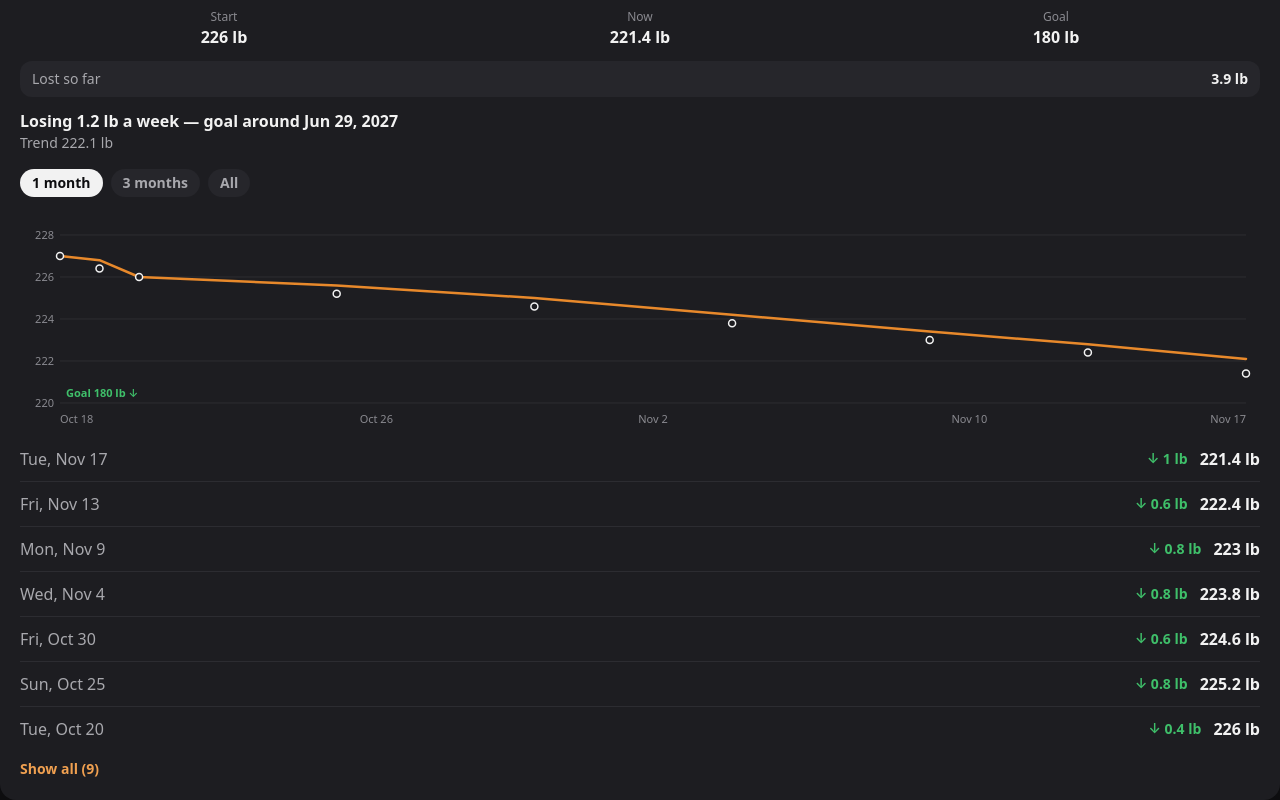
Test: WeightSection (Goals) › lists the latest 7 weigh-ins, with Show all for the rest
This screenshot has width=1280, height=800.
(page scrolled)
Click the button "Show all (9)" at {"x": 60, "y": 769}, box [20,759,99,779]
(page scrolled)
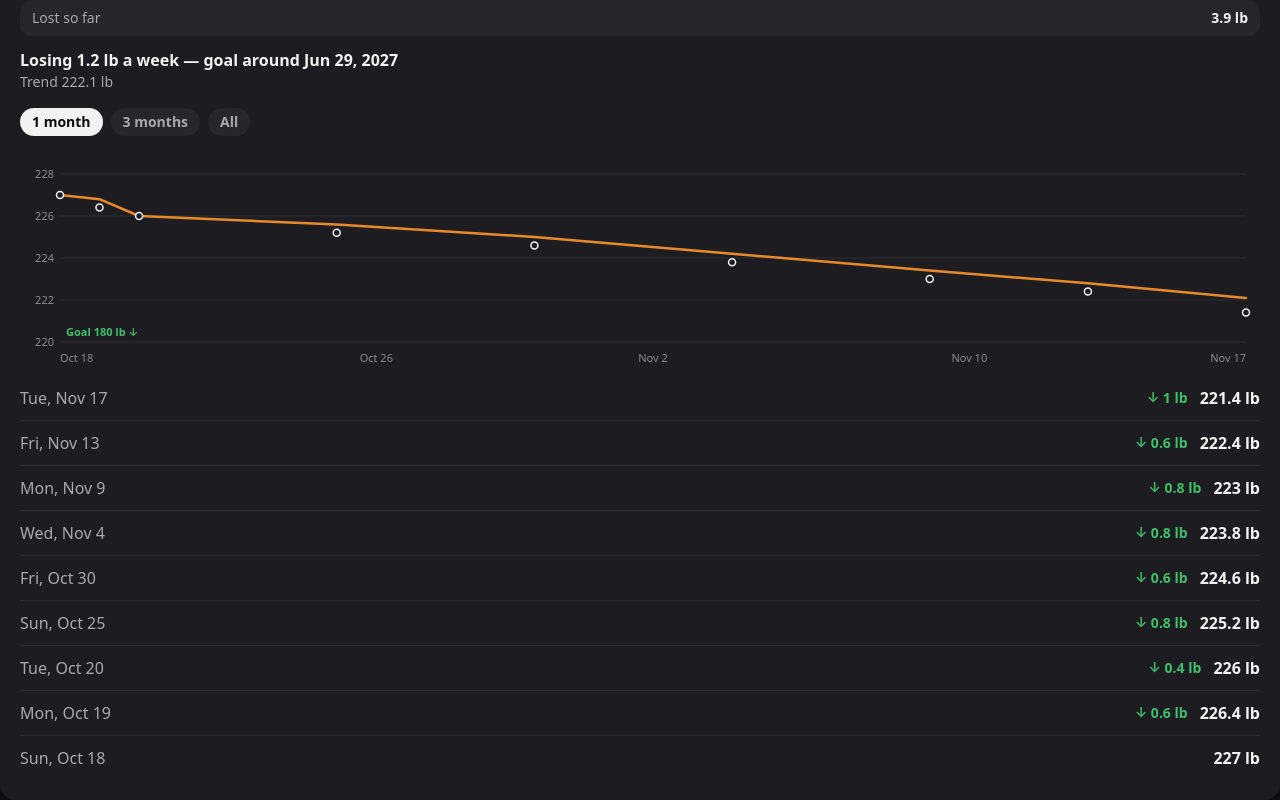
Check: the button with aria-label "Edit Sun, Oct 18, 227 lb" is shown, box [20,736,1260,780]
Check: the button "Show all" is gone
